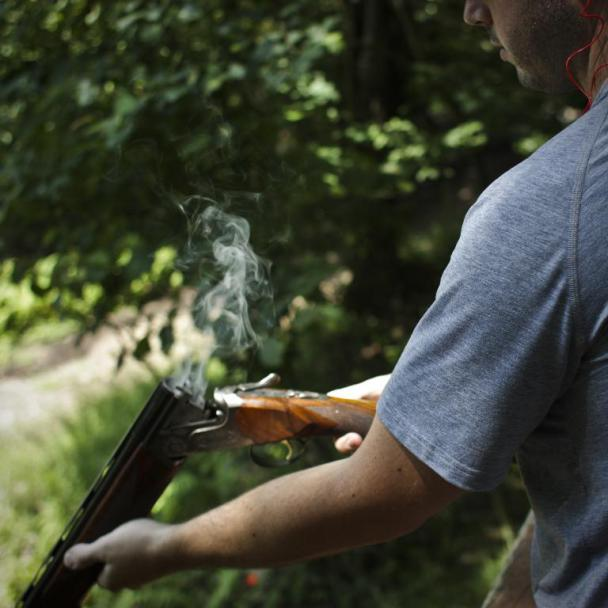Gun: (20, 369, 385, 603)
Hand: (66, 512, 246, 607)
